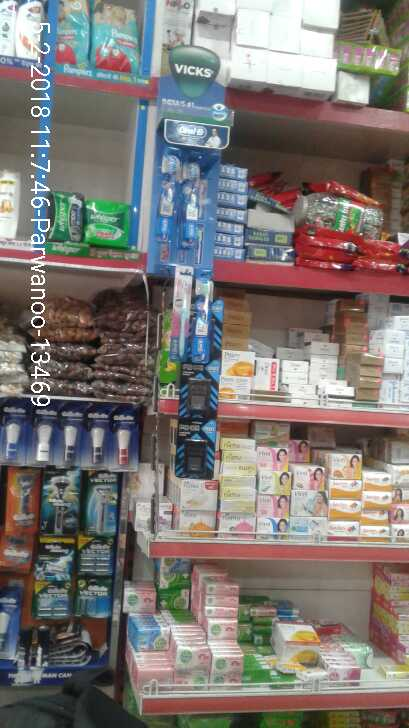pharmacy: (89, 3, 141, 72), (190, 270, 217, 366), (84, 199, 133, 250), (48, 189, 83, 243), (172, 267, 190, 359), (183, 164, 202, 243)
